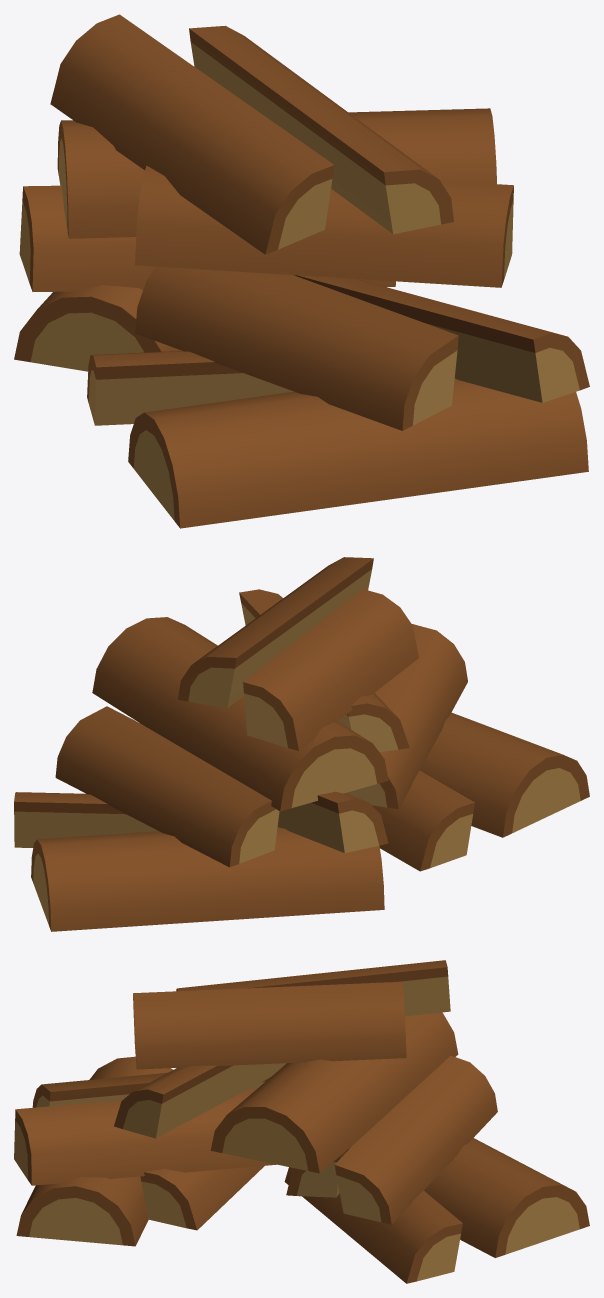
File: pileOfLumber.fbx
3 renders of one model, top to bottom at view 1: azimuth 30°, elevation 25°; view 2: azimuth 150°, elevation 25°; view 3: azimuth 270°, elevation 25°, orthographic. The views are drawn at different scales.
Visible parts, largest first — view 1: Pile of Lumber; view 2: Pile of Lumber; view 3: Pile of Lumber.
Boxes of the visible parts, x1=… form: Pile of Lumber: x1=14, y1=14, x2=589, y2=528; Pile of Lumber: x1=14, y1=557, x2=589, y2=931; Pile of Lumber: x1=14, y1=960, x2=589, y2=1283.
Bounding box in the file's own units: 80.25 × 108 × 42.96.
